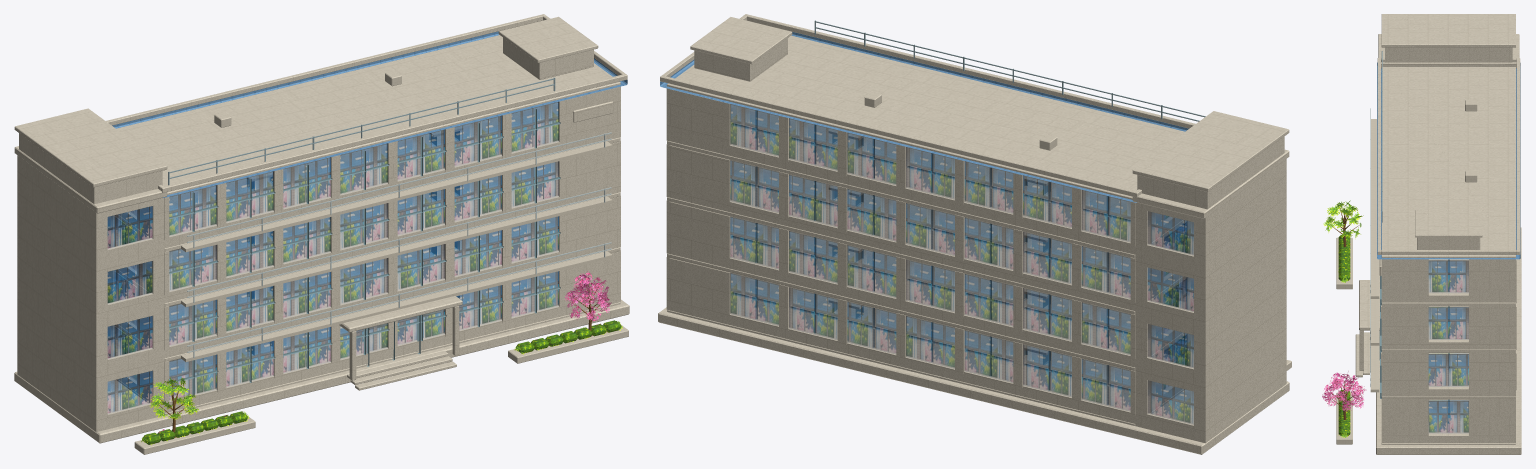
The model's file is B10_lab_rear_v2.glb.
3 views of the same model, side by side, from view 1: azimuth 30°, elevation 25°; view 2: azimuth 150°, elevation 25°; view 3: azimuth 270°, elevation 25° (orthographic). The views are drawn at different scales.
Parts seen in each view (by area): view 1: GAME_V2_Pixel_limestone, GAME_V2_Glass_reflection, GAME_V2_Planter_stone, GAME_蓝灰窗框, GAME_V2_Silver_rail, GAME_roof, GAME_V2_Dense_hedge, GAME_V2_Tower_frame, GAME_V2_Blossom_cutout, GAME_V2_Leaf_cutout; view 2: GAME_V2_Pixel_limestone, GAME_V2_Glass_reflection, GAME_蓝灰窗框, GAME_roof, GAME_V2_Tower_frame; view 3: GAME_V2_Pixel_limestone, GAME_V2_Glass_reflection, GAME_V2_Planter_stone, GAME_roof, GAME_V2_Blossom_cutout, GAME_V2_Dense_hedge, GAME_V2_Leaf_cutout, GAME_蓝灰窗框, GAME_V2_Bark, GAME_V2_Tower_frame, GAME_V2_Silver_rail.
Boxes of the visible parts, x1,y1,x2,y2 form: GAME_V2_Pixel_limestone: (14,14,629,443); GAME_V2_Glass_reflection: (107,102,558,413); GAME_V2_Planter_stone: (134,70,628,454); GAME_蓝灰窗框: (116,109,560,396); GAME_V2_Silver_rail: (187,132,611,357); GAME_roof: (112,31,627,197); GAME_V2_Dense_hedge: (142,320,621,444); GAME_V2_Tower_frame: (168,77,555,185); GAME_V2_Blossom_cutout: (158,271,611,432); GAME_V2_Leaf_cutout: (141,321,622,445); GAME_V2_Pixel_limestone: (658,14,1289,454); GAME_V2_Glass_reflection: (730,104,1193,424); GAME_蓝灰窗框: (731,110,1177,404); GAME_roof: (660,32,1188,202); GAME_V2_Tower_frame: (814,20,1205,121); GAME_V2_Pixel_limestone: (1355,14,1521,454); GAME_V2_Glass_reflection: (1428,260,1468,433); GAME_V2_Planter_stone: (1336,100,1477,444); GAME_roof: (1377,62,1520,259); GAME_V2_Blossom_cutout: (1322,241,1366,411); GAME_V2_Dense_hedge: (1338,235,1350,435); GAME_V2_Leaf_cutout: (1323,200,1363,437); GAME_蓝灰窗框: (1379,259,1449,432); GAME_V2_Bark: (1329,207,1359,419); GAME_V2_Tower_frame: (1381,51,1382,222); GAME_V2_Silver_rail: (1370,108,1370,386).
Bounding box in the file's own units: 23.38 × 10.82 × 8.98.
Materials: 11 (8 with a texture image).
